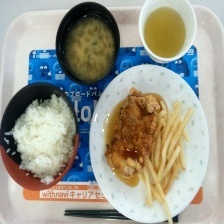rice: (12, 91, 76, 184)
